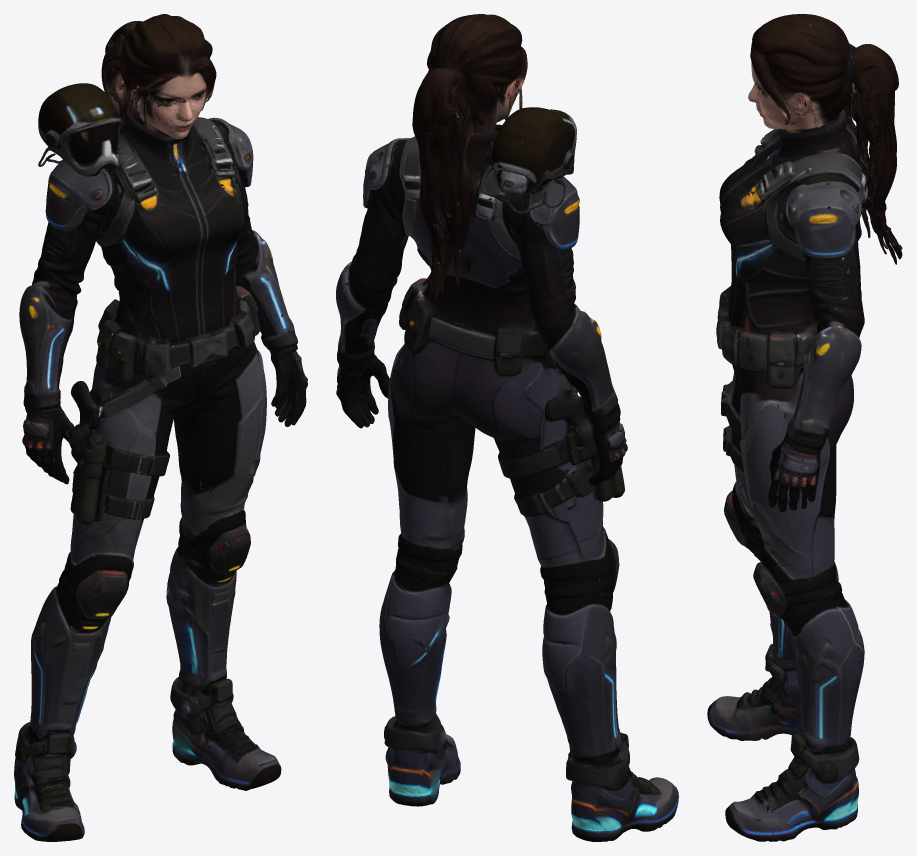
Rendered from zara-voss-gameplay.glb.
3 views of the same model, side by side, from view 1: azimuth 30°, elevation 25°; view 2: azimuth 150°, elevation 25°; view 3: azimuth 270°, elevation 25° (orthographic). The views are drawn at different scales.
Parts seen in each view (by area): view 1: world; view 2: world; view 3: world.
Part boxes in pixels (x1,y1,x2,y2): world: (14,14,307,841); world: (336,14,678,841); world: (707,14,902,841).
Size of the model in its own units: 0.8194 by 2 by 0.4524.
Materials: 1 (1 with a texture image).
